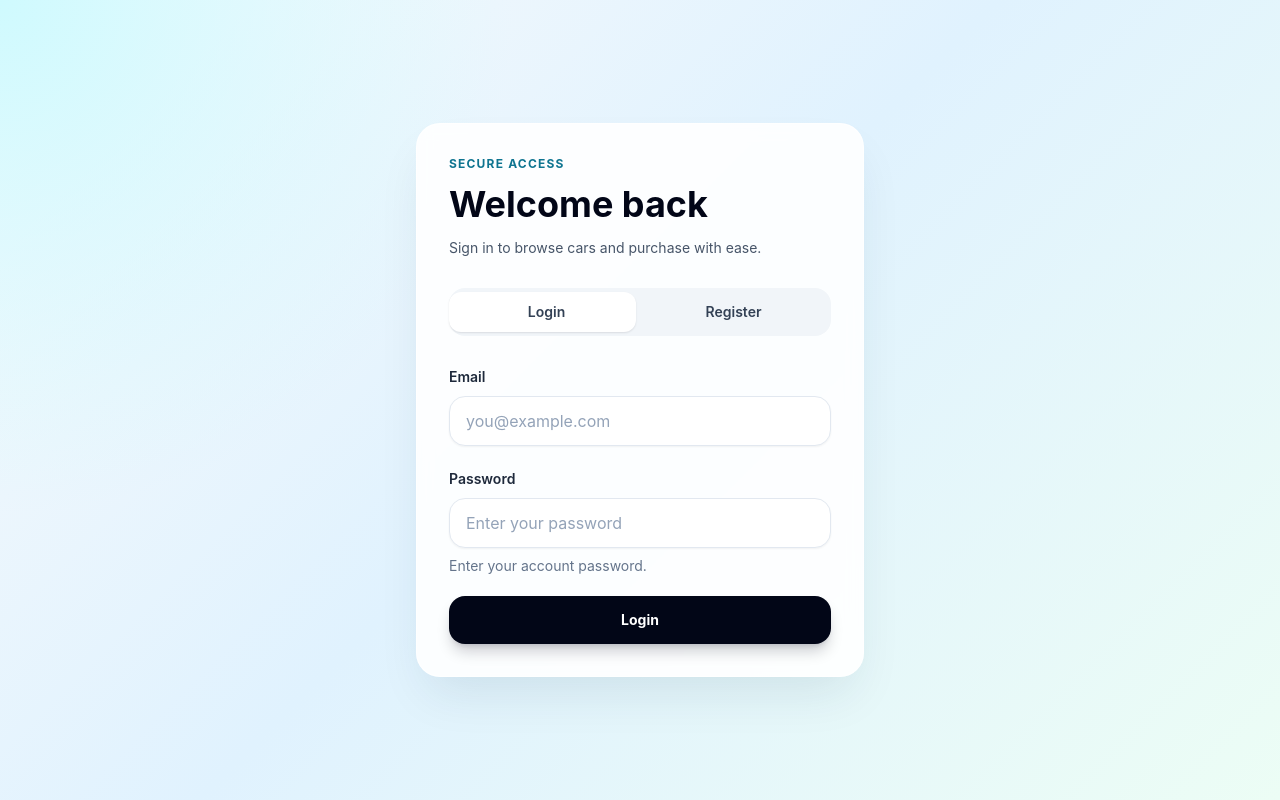
Test case: auth page › shows login API errors without entering the dashboard
Type "buyer@example.com" into the field labelled "Email" at (640, 421), box x1=449 y1=396 x2=831 y2=446
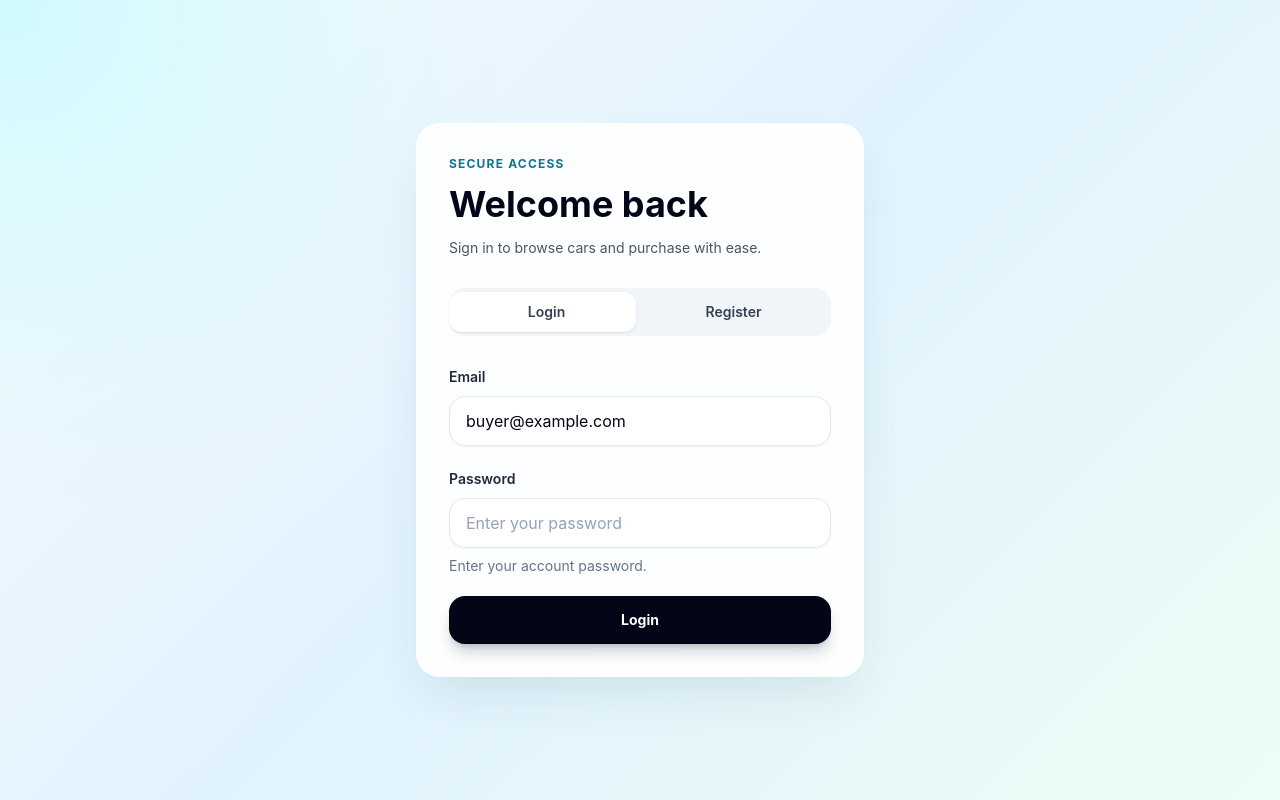
Type "secret-password" into the password field labelled "Password" at (640, 523), box x1=449 y1=498 x2=831 y2=548
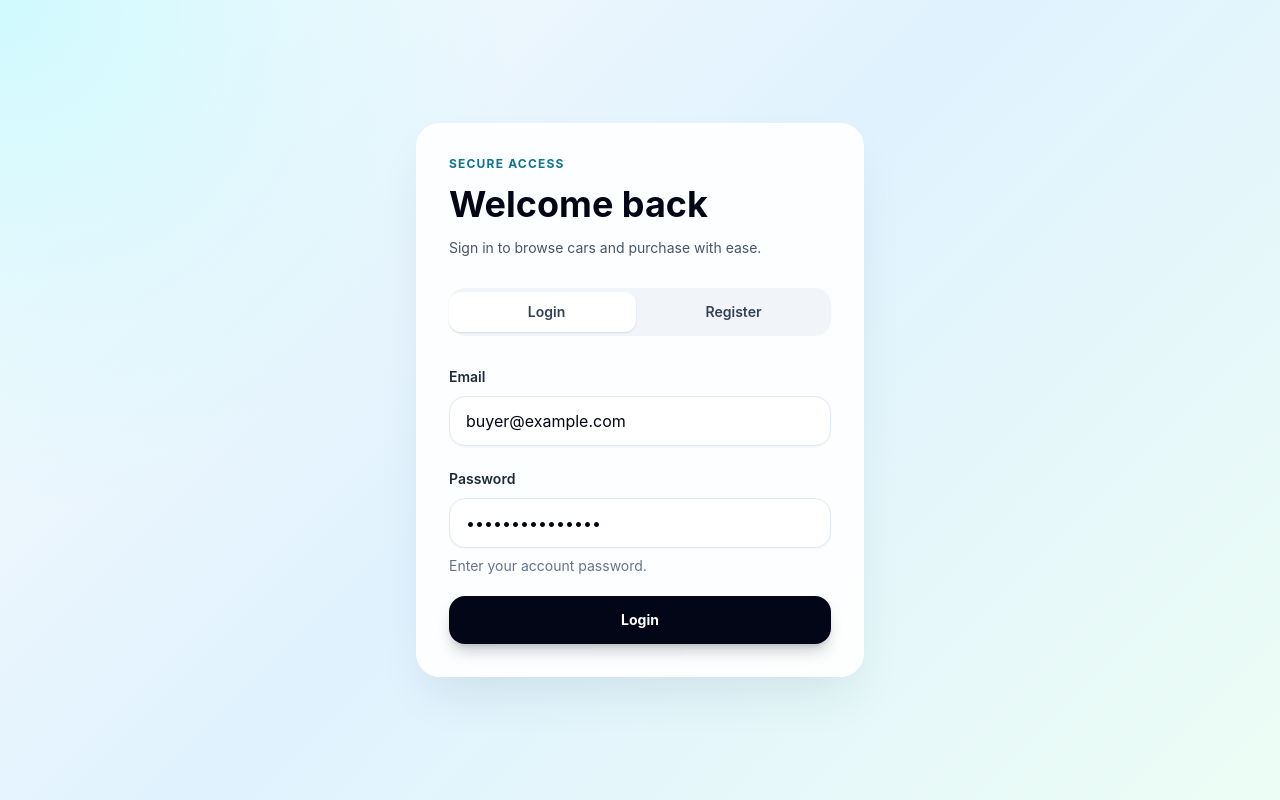
Click the button "Login" at (640, 620), box x1=449 y1=596 x2=831 y2=644
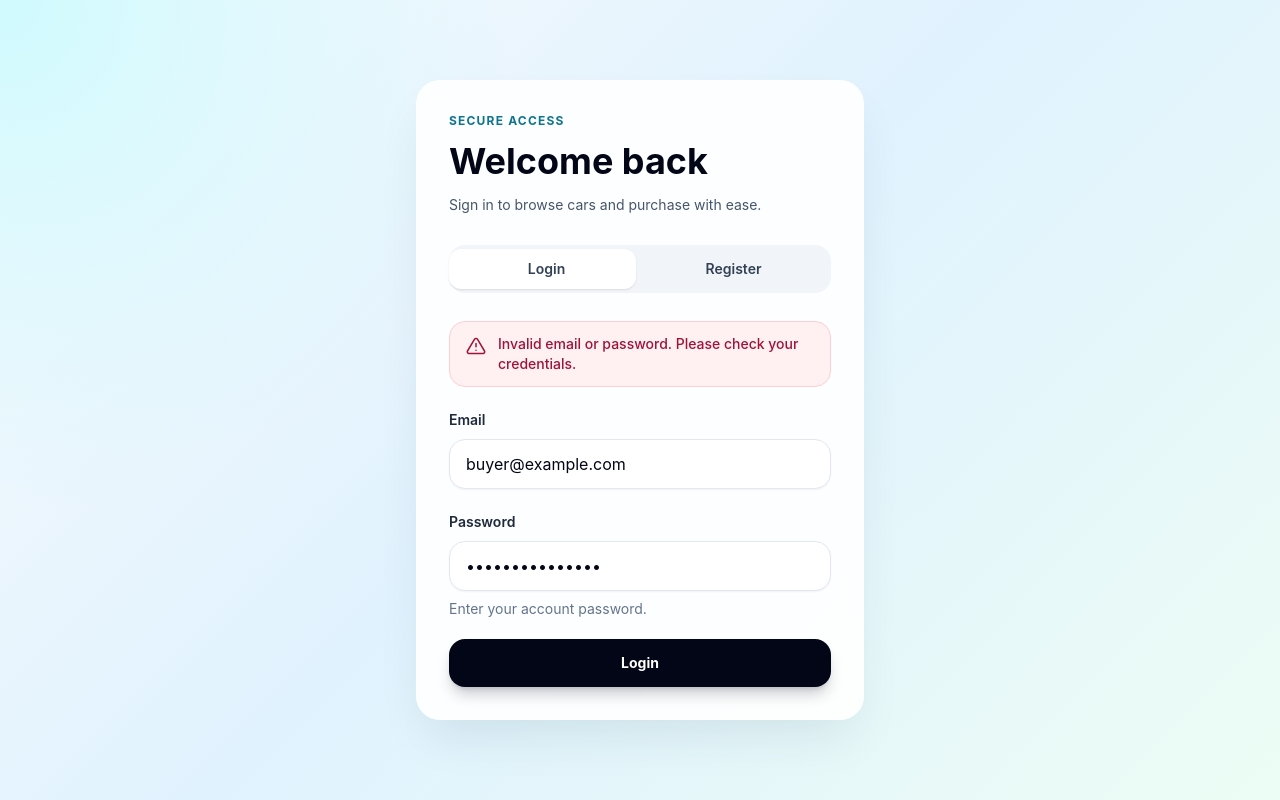
Expected: the text "Invalid email or password. Please check your credentials." is shown, x1=498 y1=334 x2=814 y2=374
